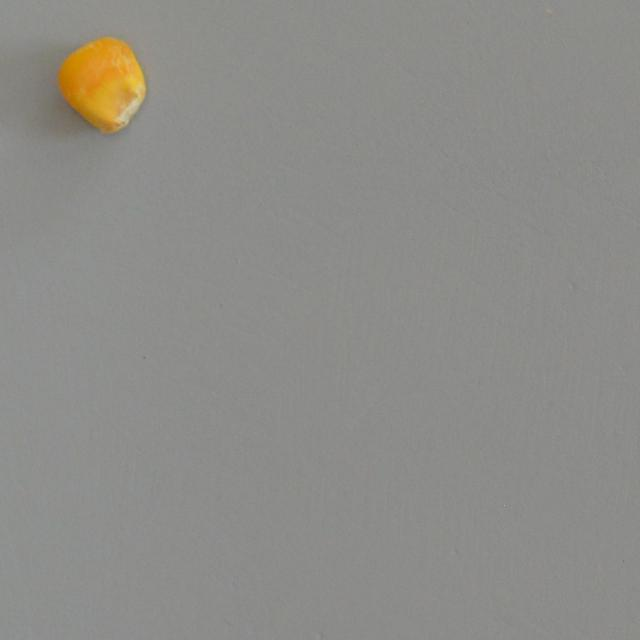pelicula: (54, 32, 149, 139)
